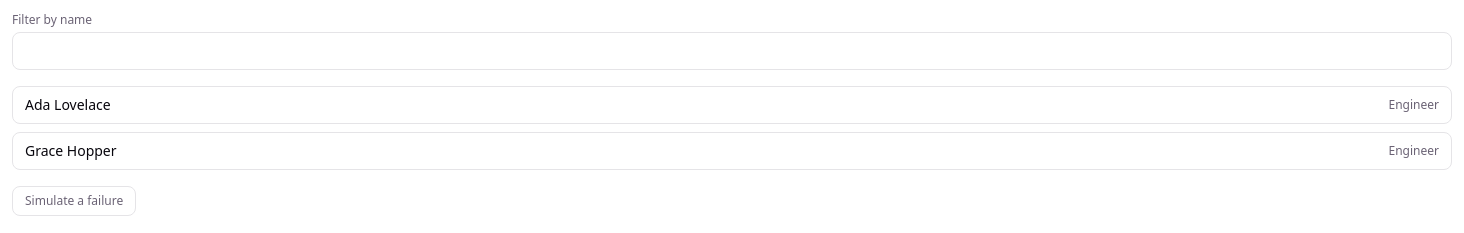
member directory › filters the list as the user types
The image size is (1464, 233).
Check: the text "Ada Lovelace" is shown, box [25,95,111,115]
Type "grace" into the search field labelled "Filter by name". click: (732, 51)
box: [12,32,1452,70]
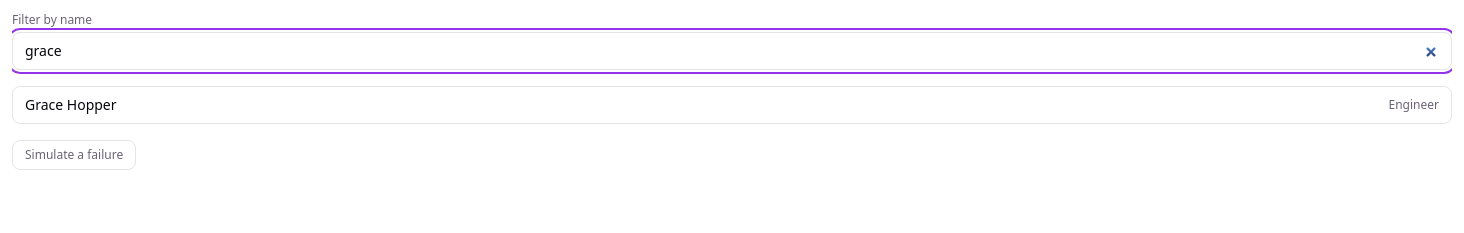
Check: the text "Grace Hopper" is shown, box [25,95,116,115]
Check: the text "Ada Lovelace" is gone
